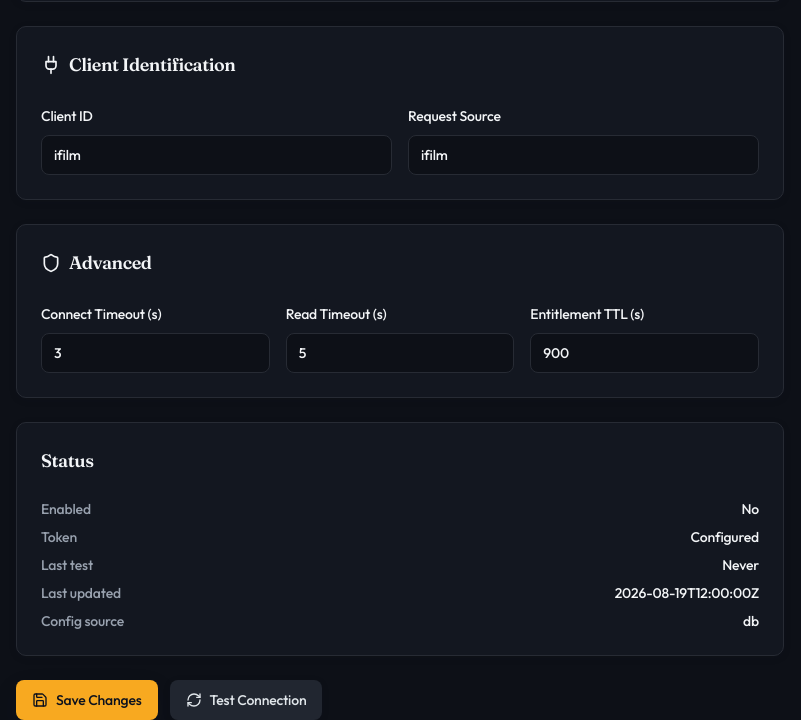
it: PortalSettingsPage › runs test connection
This screenshot has width=801, height=720.
(page scrolled)
Click the button "Test Connection": click(246, 700) x1=170 y1=680 x2=322 y2=719
(page scrolled)
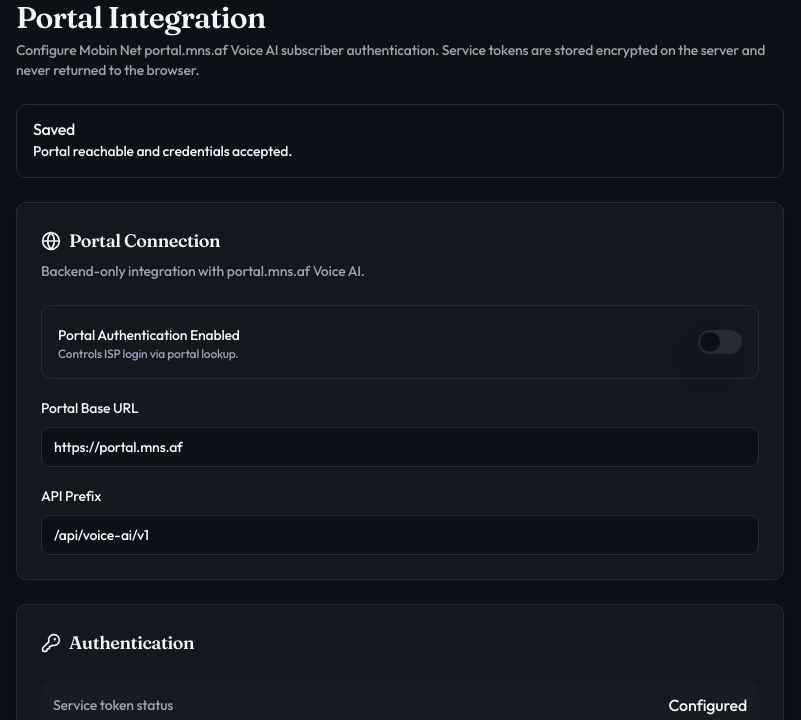
Check: the text "Portal reachable and credentials accepted." is shown, box x1=33 y1=142 x2=292 y2=160
